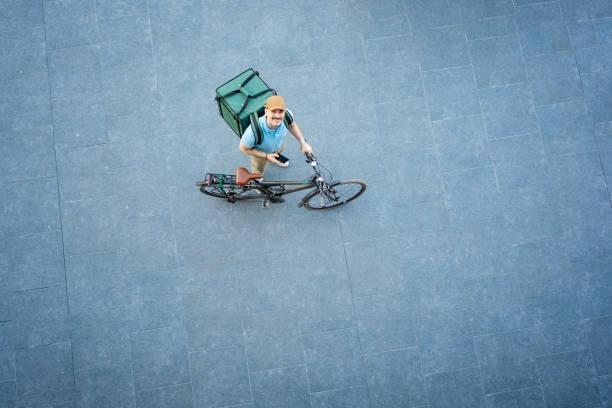Motorcycle: (204, 167, 374, 216)
